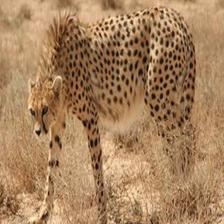Cheetah: (24, 7, 202, 222)
